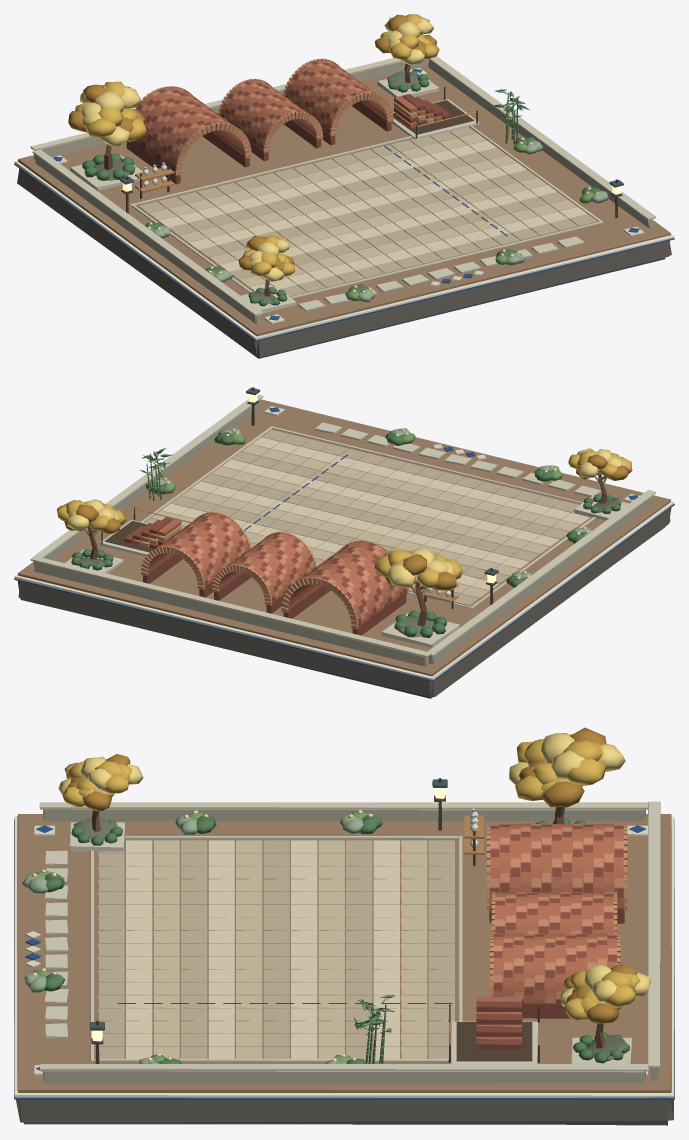
Rendered from imperial.glb.
The picture shows the model from 3 angles, top to bottom: view 1: azimuth 30°, elevation 25°; view 2: azimuth 150°, elevation 25°; view 3: azimuth 270°, elevation 25°; orthographic projection. The views are drawn at different scales.
Parts seen in each view (by area): view 1: Garden ground, Individual courtyard flagstone, Individual courtyard flagstone.002, Individual courtyard flagstone.001, Courtyard border, 20 × 20 square island, Brick barrel vault with real open interior, Vault side wall, Low stone garden wall, Individual arch voussoir.001, Layered leaf crown.001, Porcelain perimeter band (+11 smaller); view 2: Garden ground, Individual courtyard flagstone, Courtyard border, Individual courtyard flagstone.002, 20 × 20 square island, Individual courtyard flagstone.001, Brick barrel vault with real open interior, Low stone garden wall, Vault side wall, Individual arch voussoir.001, Porcelain perimeter band, Mounded planting.001 (+10 smaller); view 3: Garden ground, Individual courtyard flagstone, Individual courtyard flagstone.001, Individual courtyard flagstone.002, Courtyard border, 20 × 20 square island, Brick barrel vault with real open interior, Low stone garden wall, Vault side wall, Layered leaf crown.001, Individual arch voussoir.001, Porcelain perimeter band (+11 smaller).
Part boxes in pixels (left/top/right/bottom): Garden ground: left=18, top=59, right=671, bottom=336; Individual courtyard flagstone: left=138, top=126, right=597, bottom=296; Individual courtyard flagstone.002: left=158, top=140, right=587, bottom=291; Individual courtyard flagstone.001: left=148, top=133, right=577, bottom=287; Courtyard border: left=30, top=56, right=656, bottom=315; 20 × 20 square island: left=17, top=168, right=671, bottom=357; Brick barrel vault with real open interior: left=133, top=60, right=442, bottom=170; Vault side wall: left=126, top=61, right=451, bottom=184; Low stone garden wall: left=33, top=59, right=653, bottom=323; Individual arch voussoir.001: left=133, top=58, right=393, bottom=170; Layered leaf crown.001: left=75, top=14, right=439, bottom=276; Porcelain perimeter band: left=14, top=161, right=674, bottom=339; Garden ground: left=17, top=399, right=670, bottom=676; Individual courtyard flagstone: left=144, top=429, right=590, bottom=605; Courtyard border: left=30, top=394, right=656, bottom=657; Individual courtyard flagstone.002: left=161, top=437, right=589, bottom=591; 20 × 20 square island: left=17, top=505, right=671, bottom=697; Individual courtyard flagstone.001: left=151, top=444, right=579, bottom=598; Brick barrel vault with real open interior: left=132, top=513, right=403, bottom=624; Low stone garden wall: left=33, top=399, right=653, bottom=666; Vault side wall: left=124, top=514, right=406, bottom=635; Individual arch voussoir.001: left=141, top=512, right=398, bottom=624; Porcelain perimeter band: left=14, top=501, right=674, bottom=680; Mounded planting.001: left=71, top=432, right=621, bottom=637; Garden ground: left=17, top=814, right=671, bottom=1092; Individual courtyard flagstone: left=98, top=840, right=454, bottom=1058; Individual courtyard flagstone.001: left=153, top=840, right=427, bottom=1058; Individual courtyard flagstone.002: left=126, top=840, right=399, bottom=1058; Courtyard border: left=39, top=801, right=660, bottom=1071; 20 × 20 square island: left=16, top=1097, right=673, bottom=1125; Brick barrel vault with real open interior: left=476, top=823, right=624, bottom=1040; Low stone garden wall: left=43, top=809, right=658, bottom=1083; Vault side wall: left=476, top=824, right=624, bottom=1049; Layered leaf crown.001: left=63, top=740, right=640, bottom=1020; Individual arch voussoir.001: left=487, top=823, right=627, bottom=1002; Porcelain perimeter band: left=14, top=808, right=674, bottom=1097.
Size of the model in its own units: 20.06 by 5.1 by 20.06.
